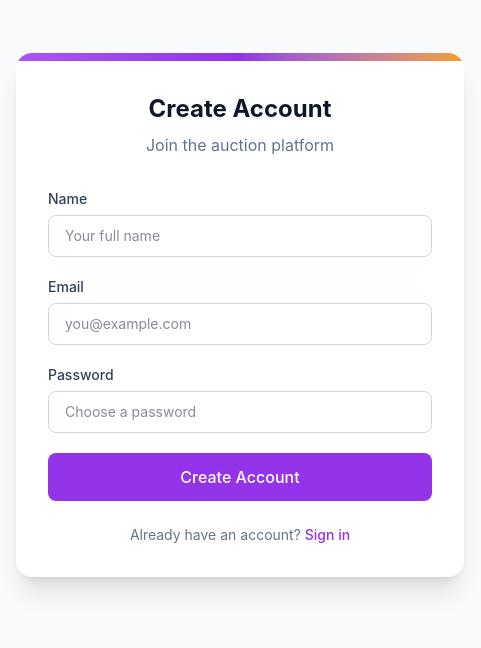
Test case: RegisterForm › displays error message on registration failure
In the field labelled "Name": (240, 236) [48,215,432,257], type "Test User"
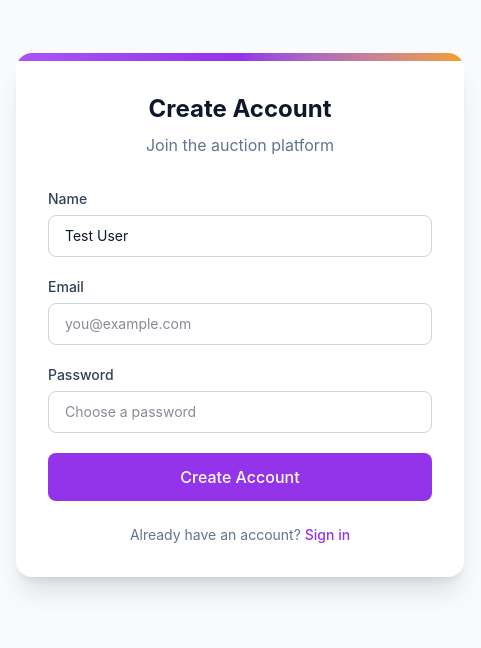
In the field labelled "Email": (240, 324) [48,303,432,345], type "test@example.com"
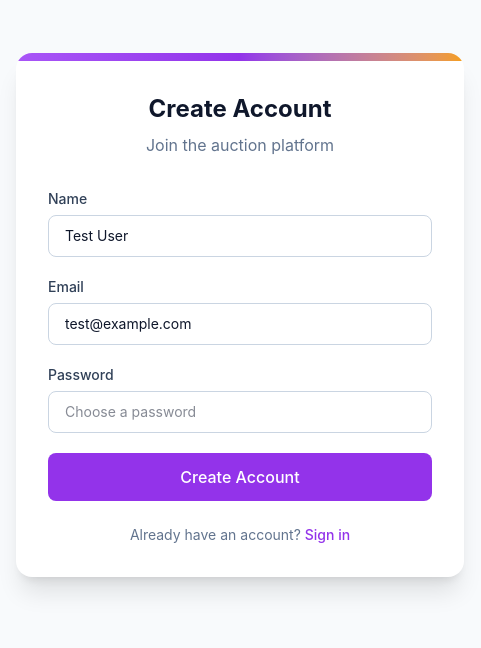
In the password field labelled "Password": (240, 412) [48,391,432,433], type "password123"
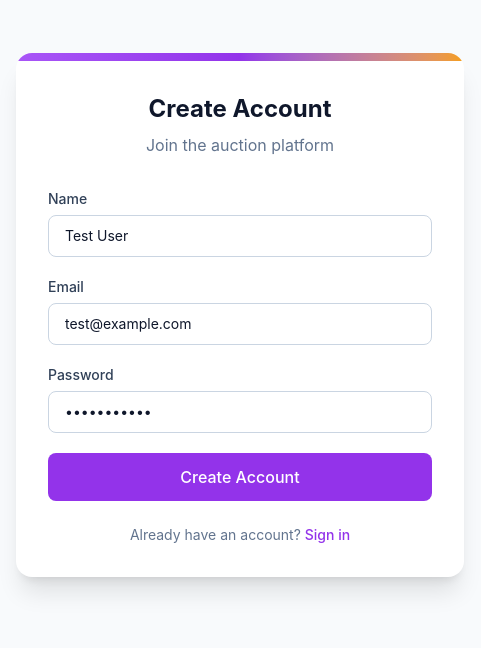
Click the button "Create Account": (240, 477) [48,453,432,501]
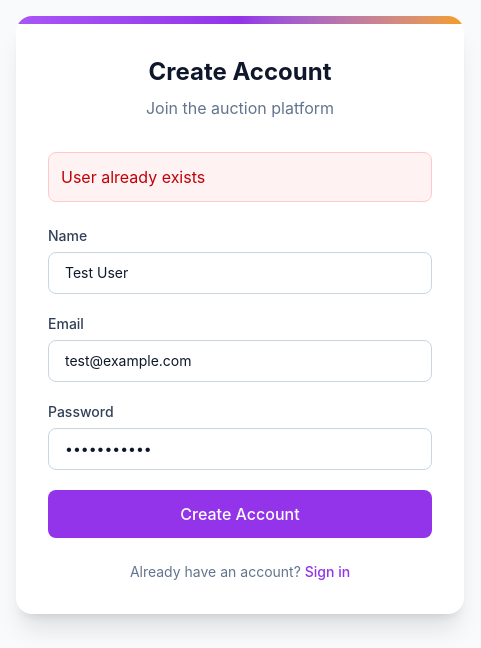
Expected: the text "User already exists" is shown, [61,167,205,187]
